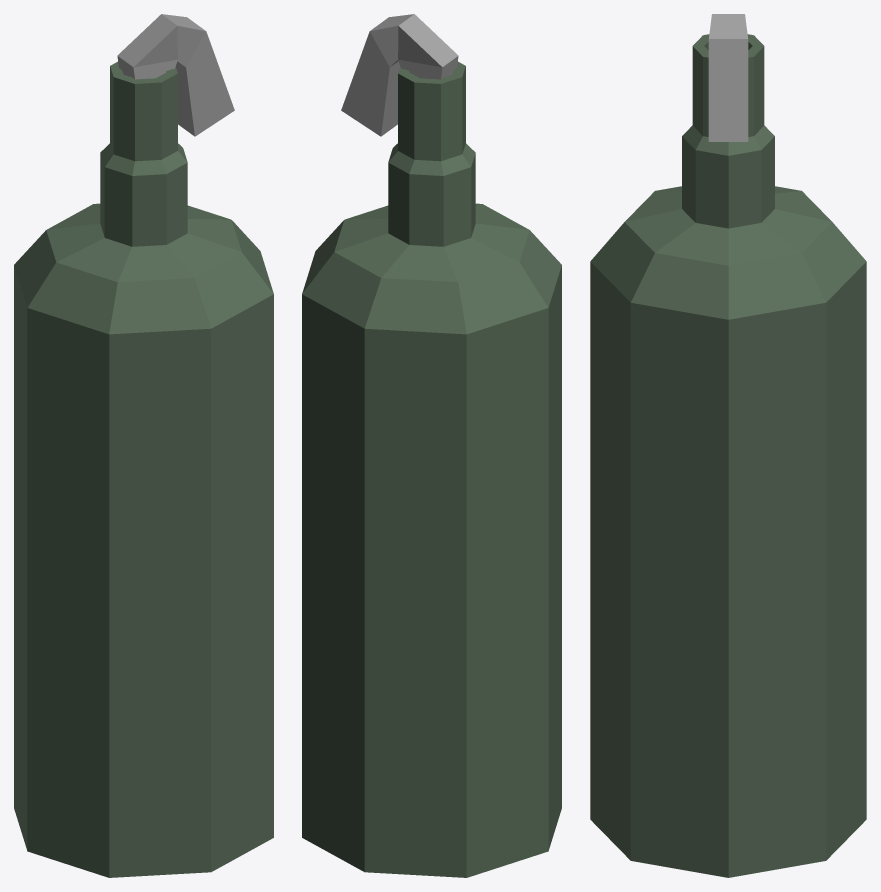
File: Molotov.fbx
The picture shows the model from 3 angles, left to right: view 1: azimuth 30°, elevation 25°; view 2: azimuth 150°, elevation 25°; view 3: azimuth 270°, elevation 25°; orthographic projection. The views are drawn at different scales.
Parts seen in each view (by area): view 1: Cylinder; view 2: Cylinder; view 3: Cylinder.
Part boxes in pixels (left/top/right/bottom): Cylinder: left=14, top=14, right=273, bottom=877; Cylinder: left=302, top=14, right=561, bottom=877; Cylinder: left=590, top=14, right=866, bottom=877.
Bounding box in the file's own units: 20 × 65.35 × 20.
